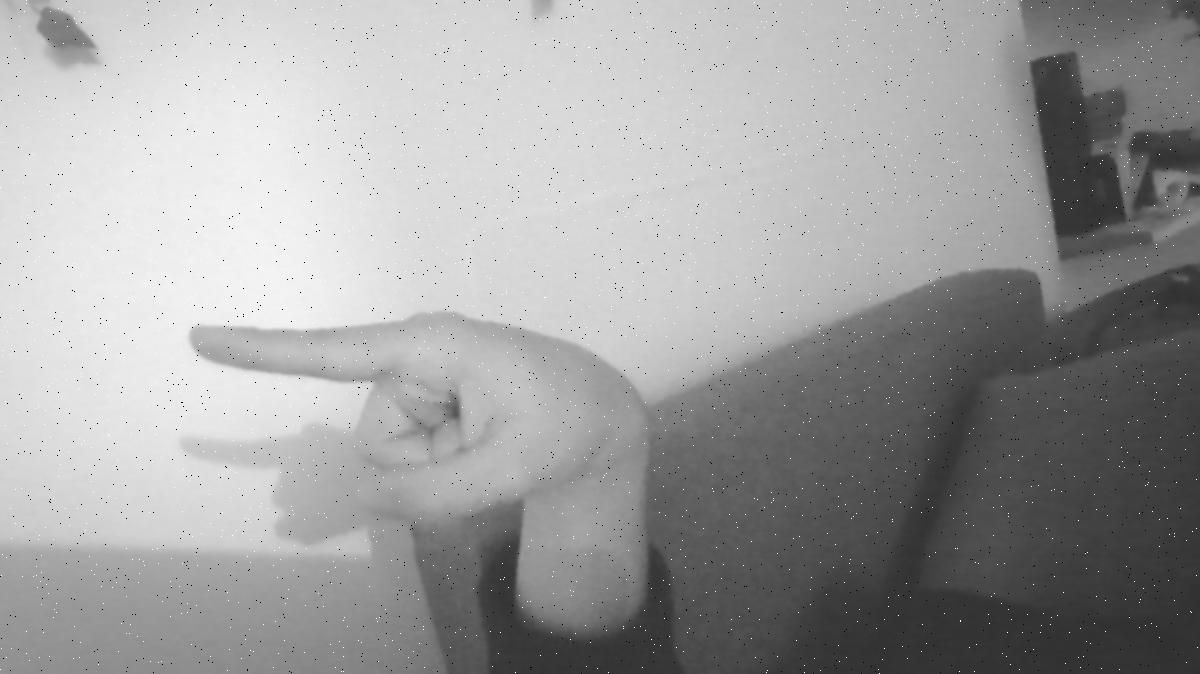left: (167, 281, 666, 551)
